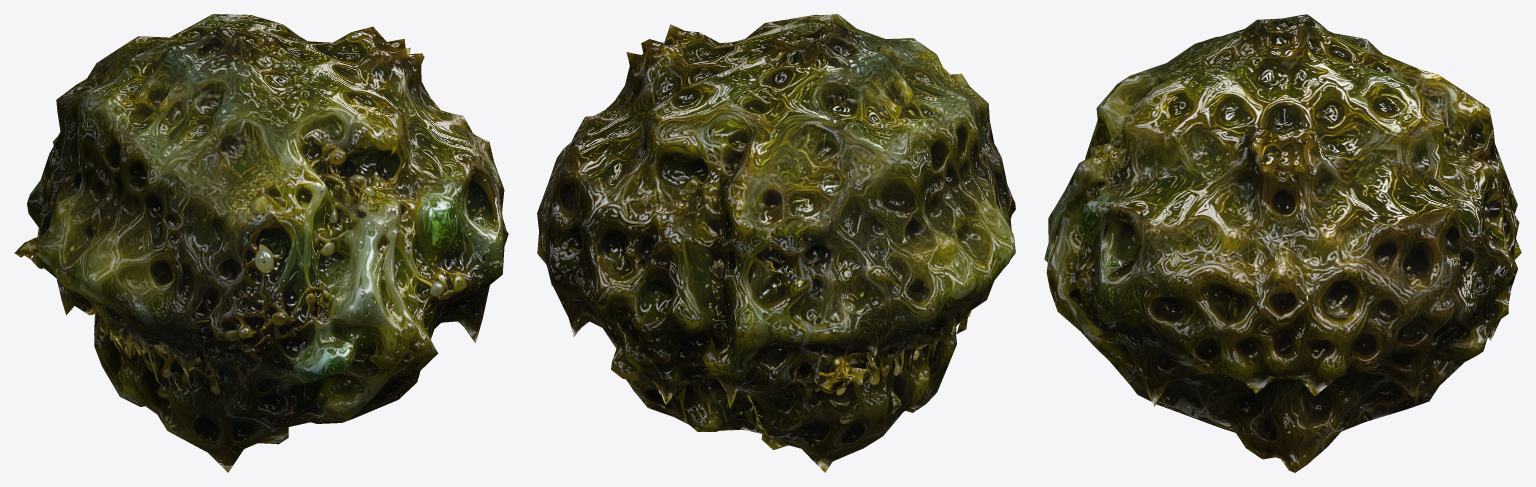
Rendered from sample_algae.fbx.
3 views of the same model, side by side, from view 1: azimuth 30°, elevation 25°; view 2: azimuth 150°, elevation 25°; view 3: azimuth 270°, elevation 25° (orthographic). The views are drawn at different scales.
Parts seen in each view (by area): view 1: input; view 2: input; view 3: input.
Part boxes in pixels (x1,y1,x2,y2): input: (14,14,508,472); input: (537,14,1015,472); input: (1044,14,1521,472).
Size of the model in its own units: 97.02 by 93.01 by 98.86.
Materials: 1 (1 with a texture image).
